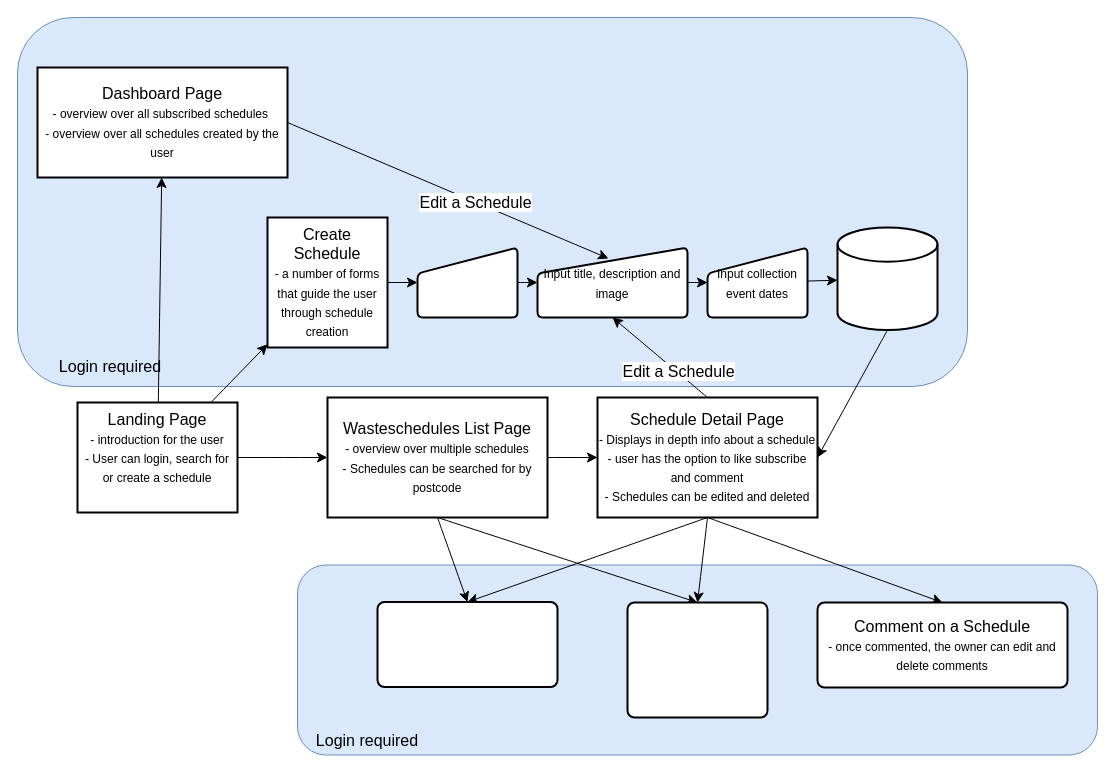
The diagram is 1115 pixels wide and 773 high, and some of its shapes have lost their labels. The shapes that lost their labels are listed below. From the top down, each one's centre as x and y in pixels, then its label:
At (x=467, y=282): "Input Location".
At (x=887, y=278): "Save Schedule".
At (x=467, y=644): "<3 Like a Schedule - Subscriptions can be added and retracted".
At (x=697, y=659): "Subscribe to a schedule - Subscriptions can be added and retracted".
